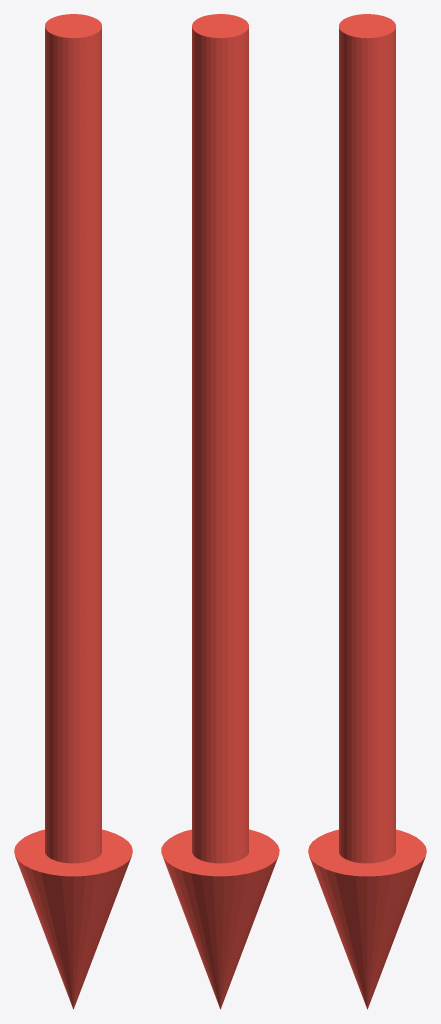
File: Axis 1 A_CH4.gltf
3 views of the same model, side by side, from view 1: azimuth 90°, elevation 25°; view 2: azimuth 150°, elevation 25°; view 3: azimuth 270°, elevation 25° (orthographic).
Parts seen in each view (by area): view 1: Eje_C2a_Eje_Cono.006; view 2: Eje_C2a_Eje_Cono.006; view 3: Eje_C2a_Eje_Cono.006.
Boxes of the visible parts, left/top/right/bottom form: Eje_C2a_Eje_Cono.006: left=14, top=14, right=132, bottom=1009; Eje_C2a_Eje_Cono.006: left=161, top=14, right=279, bottom=1009; Eje_C2a_Eje_Cono.006: left=308, top=14, right=426, bottom=1009.
Bounding box in the file's own units: 0.3101 × 2.83 × 0.3101.
